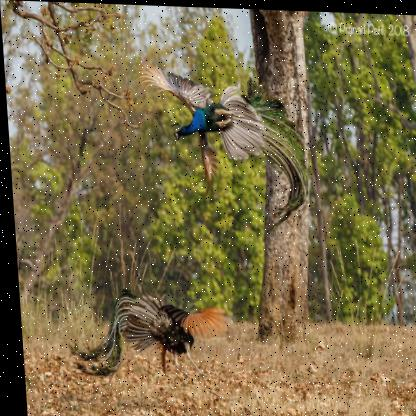Burung: (136, 57, 307, 231)
